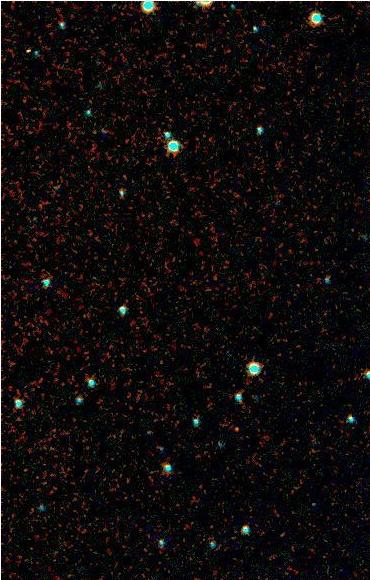star: (220, 409, 250, 439)
